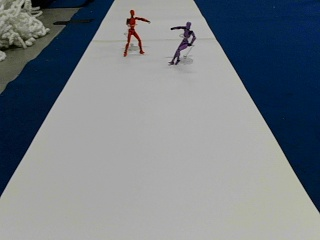pedestrian: (124, 10, 150, 56), (169, 20, 195, 64)
